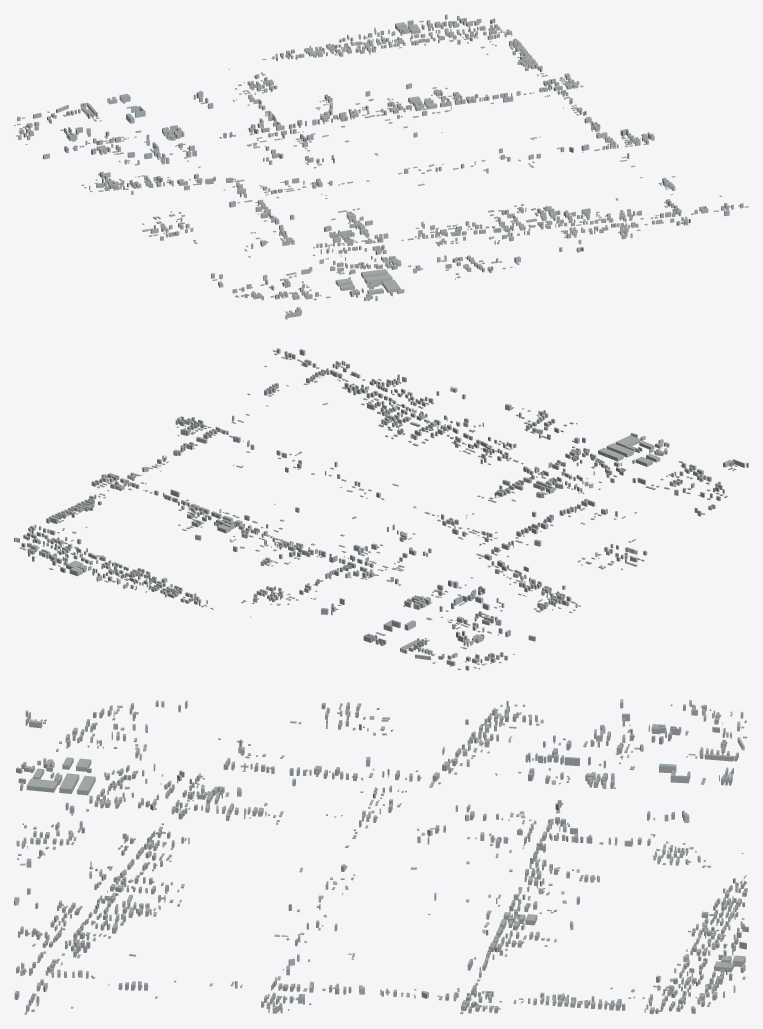
File: far.glb
3 views of the same model, one above another, from view 1: azimuth 30°, elevation 25°; view 2: azimuth 150°, elevation 25°; view 3: azimuth 270°, elevation 25° (orthographic). The views are drawn at different scales.
Bounding box in the file's own units: 2094 × 22.3 × 2097.
